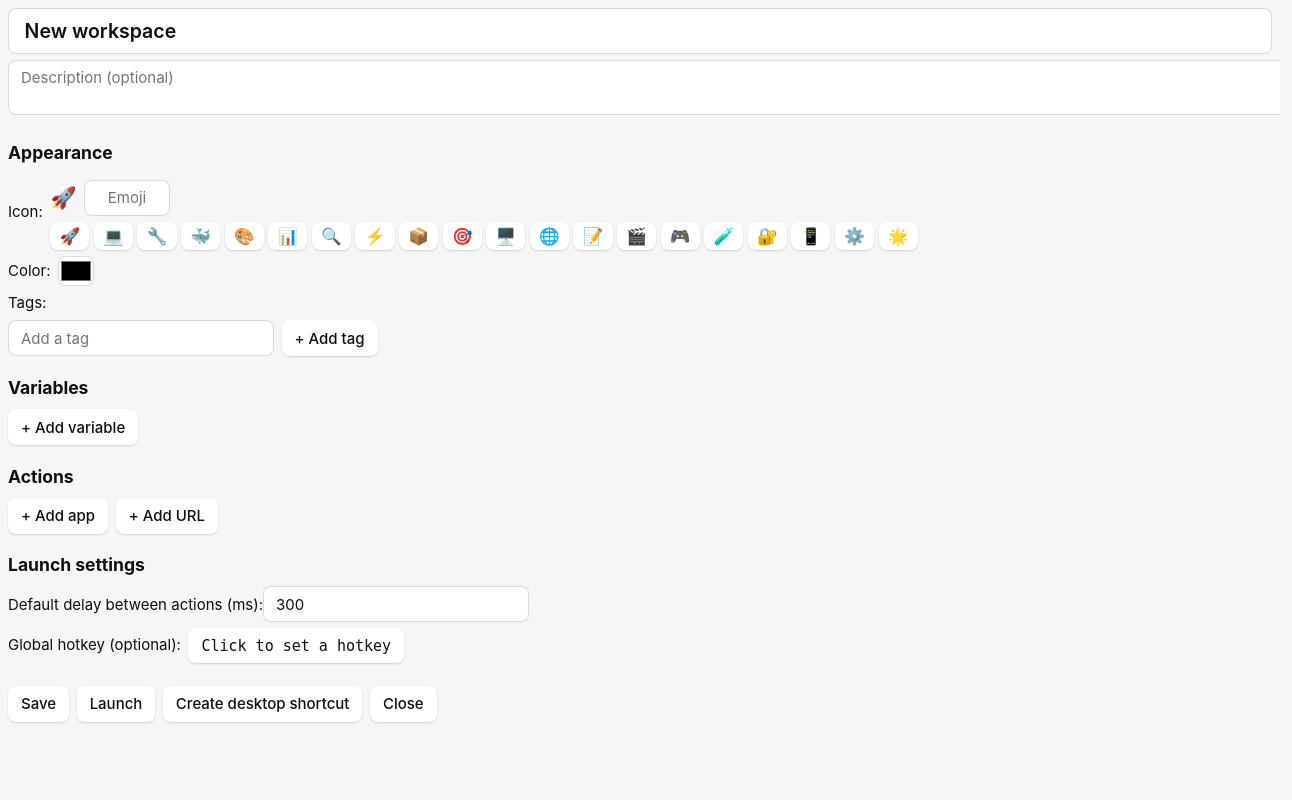
Test: WorkspaceEditor › shows a Save failed banner when saving rejects
Check: the field with placeholder "Workspace name" is shown, box [8, 8, 1272, 54]
Click the button "Save".
click(39, 704)  # box [8, 686, 69, 722]
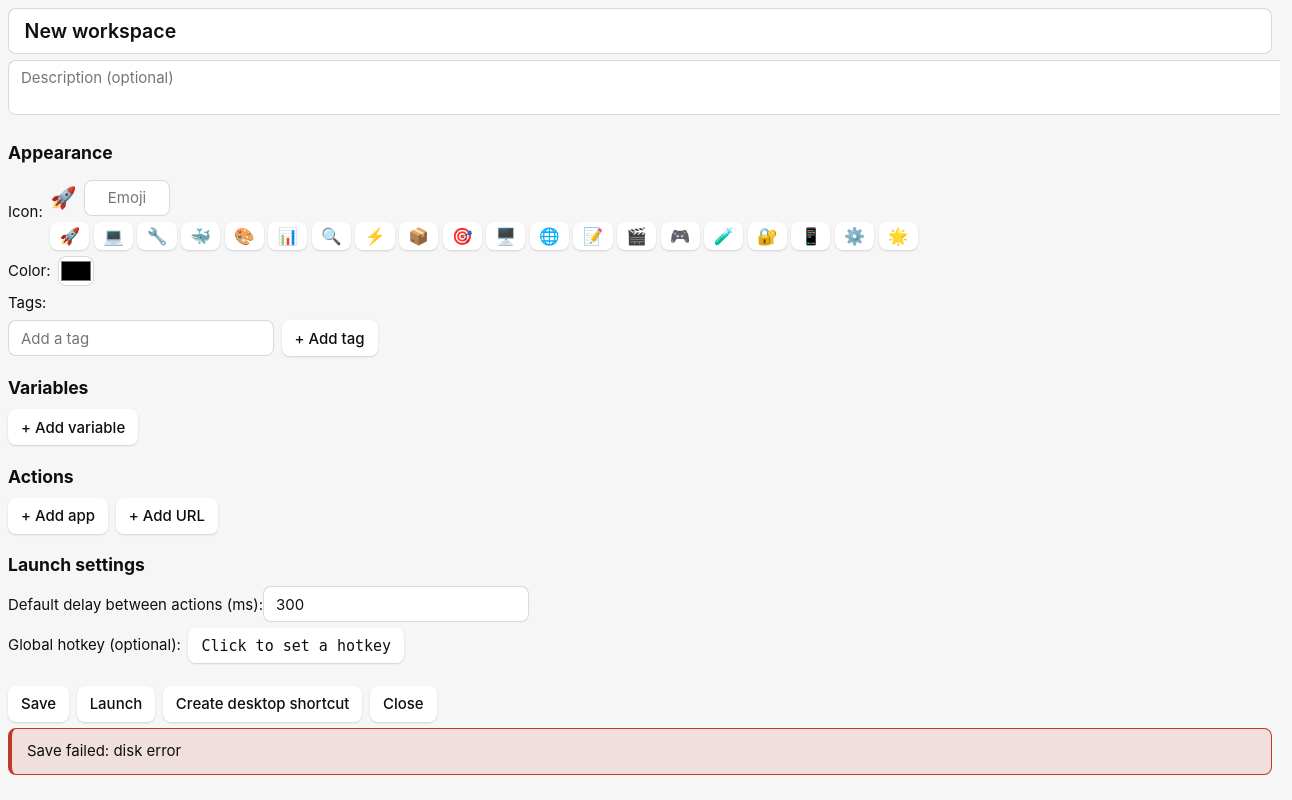
Check: the message reads "Save failed: disk error", box [27, 741, 181, 760]
